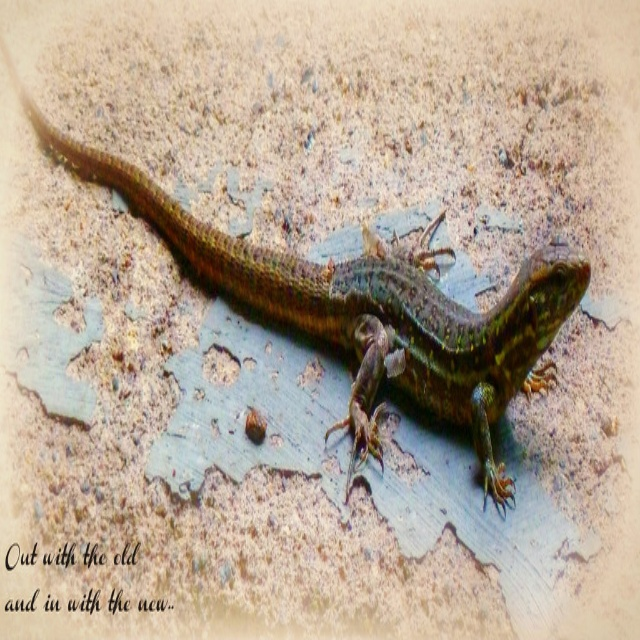Lizard: (1, 20, 592, 524)
